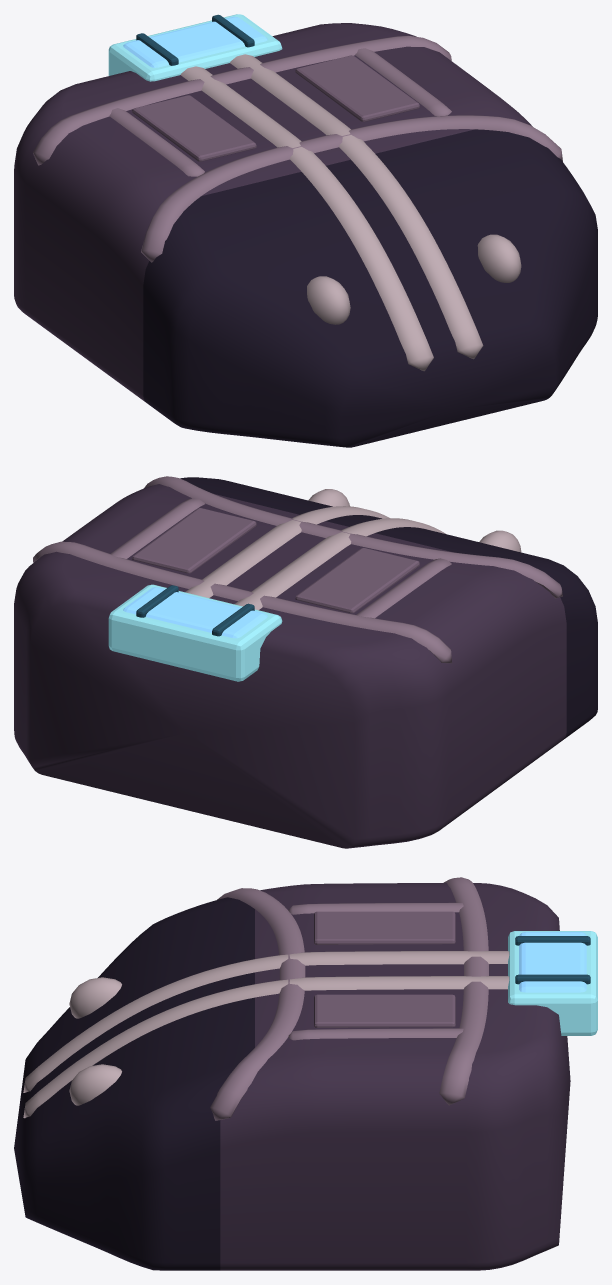
Rendered from container.glb.
3 renders of one model, top to bottom at view 1: azimuth 30°, elevation 25°; view 2: azimuth 150°, elevation 25°; view 3: azimuth 270°, elevation 25°, orthographic. The views are drawn at different scales.
Parts seen in each view (by area): view 1: body, rib1, rib-1, bar_front, bar_back, panel-1, panel1, light_glass, light_frame, knob-1, knob1, side_bar-1 (+1 smaller); view 2: body, light_frame, bar_back, bar_front, panel1, panel-1, light_glass, rib1, rib-1, side_bar1, side_bar-1, knob-1 (+1 smaller); view 3: body, rib-1, rib1, bar_front, bar_back, panel1, panel-1, light_frame, light_glass, side_bar1, side_bar-1, knob1 (+3 smaller).
Part boxes in pixels (x1,y1,x2,y2): body: (14, 23, 597, 447); rib1: (230, 54, 483, 359); rib-1: (180, 66, 433, 371); bar_front: (141, 115, 562, 262); bar_back: (33, 35, 451, 165); panel-1: (132, 95, 256, 161); panel1: (295, 55, 419, 121); light_glass: (123, 16, 267, 67); light_frame: (108, 14, 282, 81); knob-1: (307, 276, 350, 324); knob1: (477, 234, 521, 282); side_bar-1: (109, 108, 204, 176); body: (14, 477, 597, 848); light_frame: (108, 584, 282, 681); bar_back: (33, 541, 452, 663); bar_front: (144, 476, 562, 598); panel1: (132, 508, 256, 573); panel-1: (295, 548, 419, 613); light_glass: (123, 587, 267, 638); rib1: (185, 506, 389, 597); rib-1: (234, 518, 446, 610); side_bar1: (110, 498, 204, 558); side_bar-1: (356, 558, 451, 618); knob-1: (479, 530, 521, 552); body: (14, 883, 570, 1270); rib-1: (23, 951, 509, 1092); rib1: (23, 976, 509, 1118); bar_front: (210, 888, 305, 1120); bar_back: (439, 877, 488, 1105); panel1: (314, 994, 455, 1027); panel-1: (314, 911, 455, 944); light_frame: (508, 931, 597, 1035); light_glass: (519, 932, 586, 992); side_bar1: (288, 1028, 463, 1040); side_bar-1: (288, 902, 463, 914); knob1: (69, 1064, 121, 1105).
Bounding box in the file's own units: 22.3 × 10.18 × 25.54.
